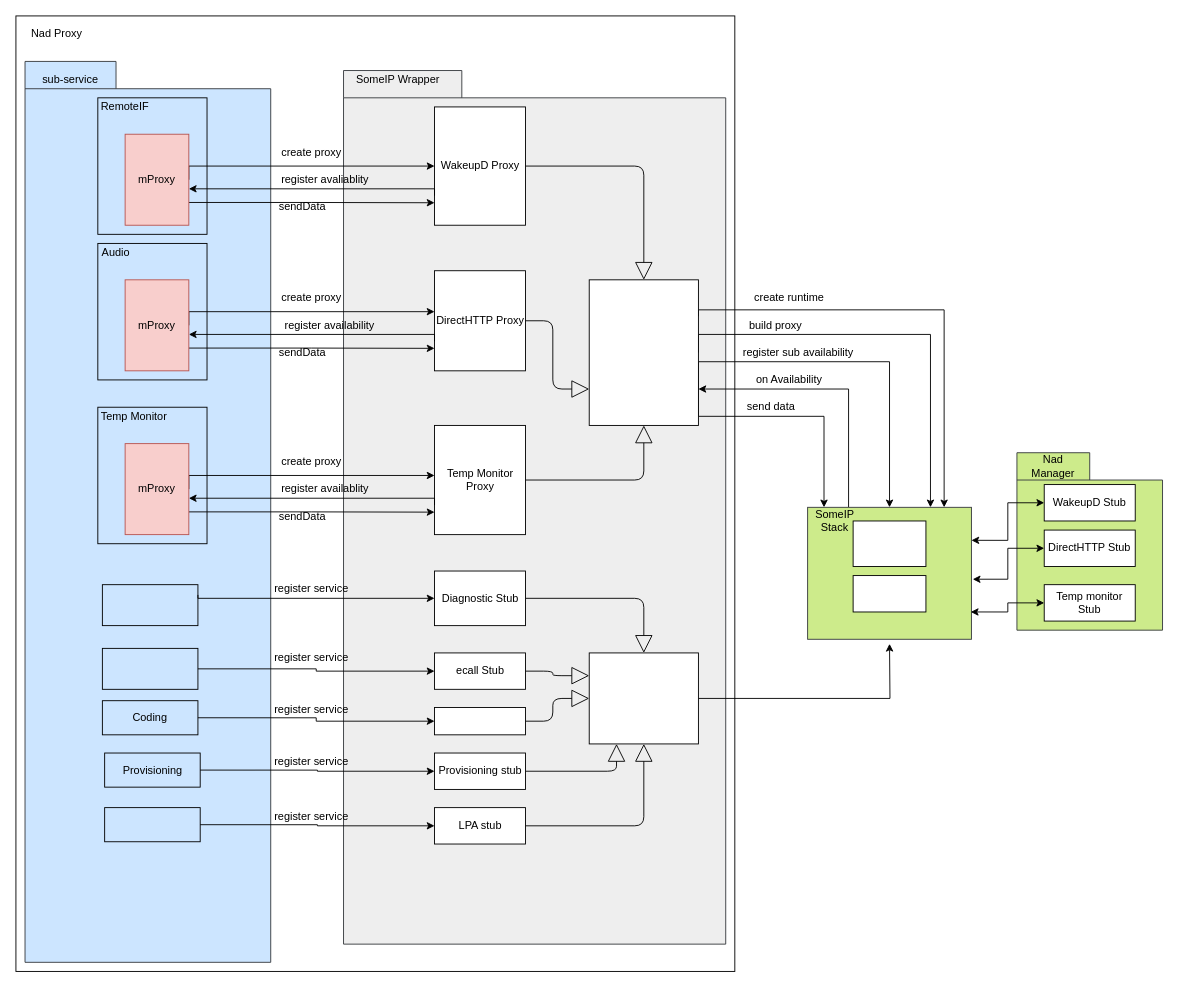
Some shapes in this 1178 by 987 pixel diagram are drawn without their labels. Each missing label, with the centre of its shape:
"Coding stub" belongs at (480,721).
"commonAPI" belongs at (889,543).
"Diagnostic" belongs at (149,605).
"eCall" belongs at (149,668).
"LPA" belongs at (152,824).
"Proxy Base" belongs at (643,352).
"Stub Base" belongs at (643,698).
"Vsomeip" belongs at (889,593).
